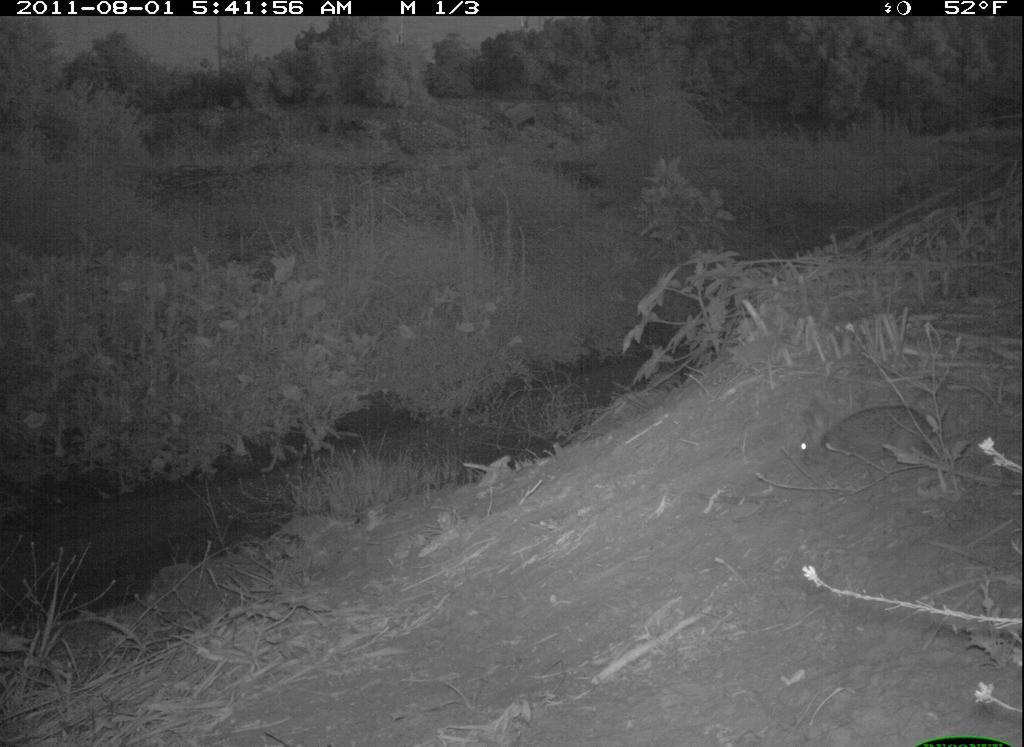rabbit: (797, 397, 946, 483)
